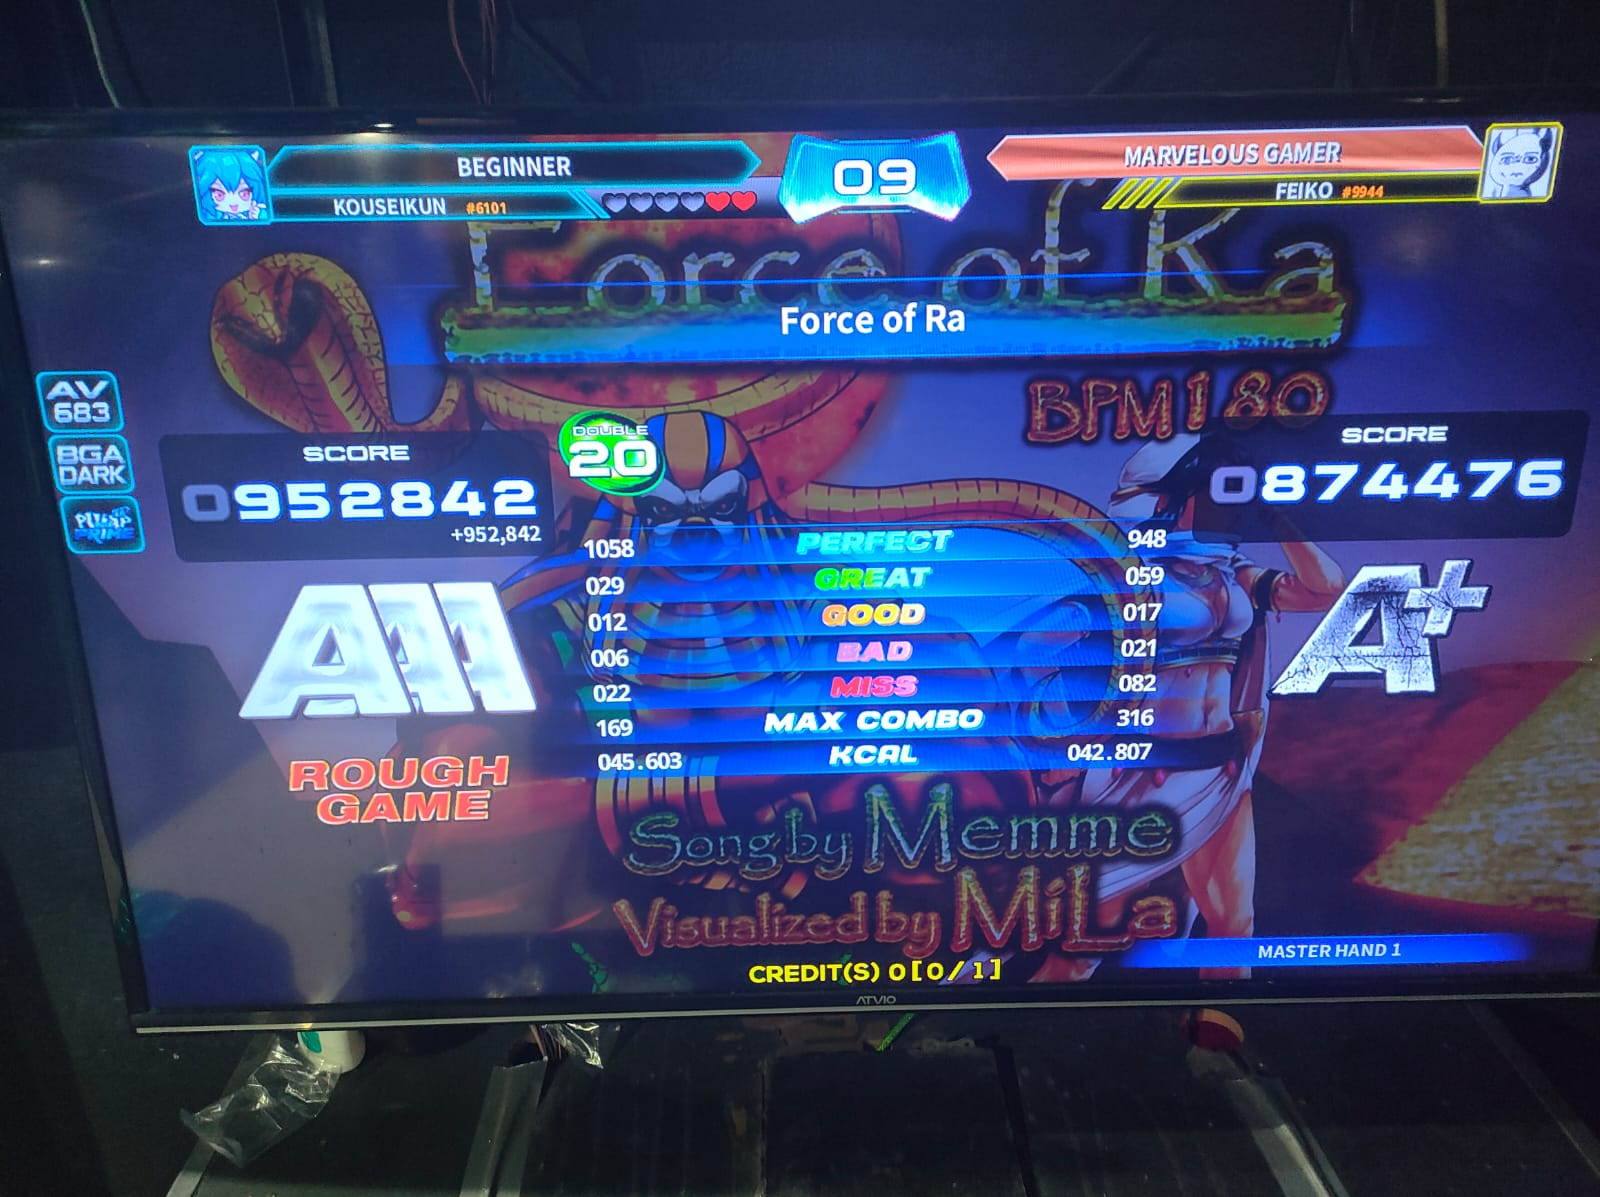difficulty: (227, 575, 557, 732), (554, 378, 711, 489)
fullscore: (0, 0, 1547, 973)
score: (172, 436, 543, 531)
song_name: (547, 265, 1274, 361)
